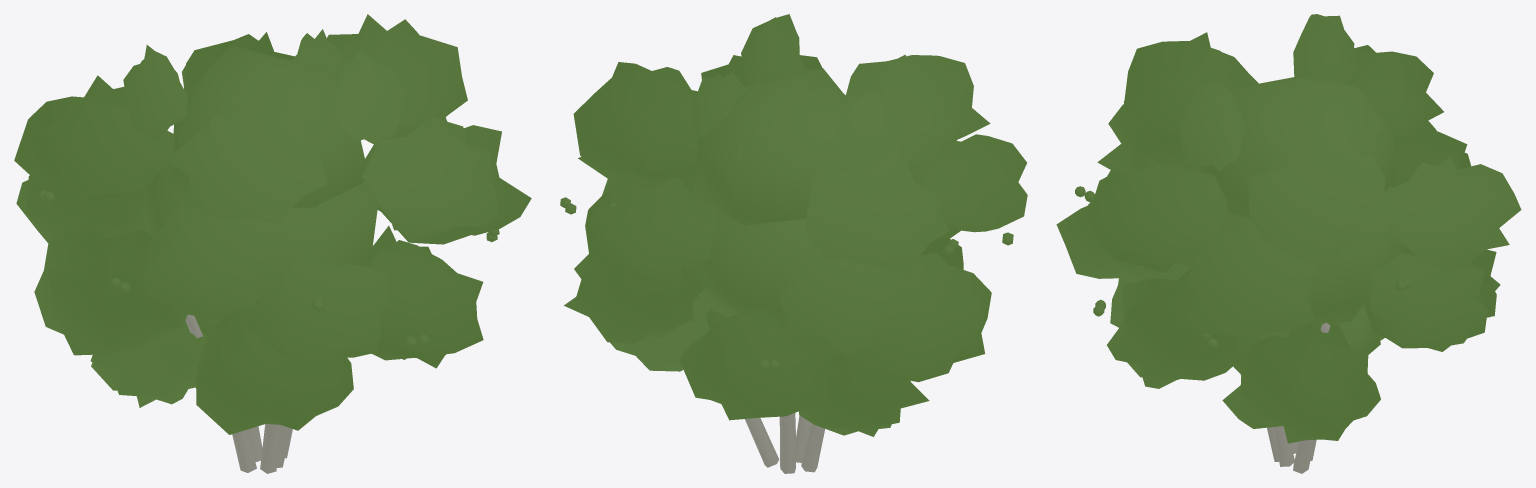
Rendered from Blender_WaxMyrtle_1.glb.
The picture shows the model from 3 angles, left to right: view 1: azimuth 30°, elevation 25°; view 2: azimuth 150°, elevation 25°; view 3: azimuth 270°, elevation 25°; orthographic projection. The views are drawn at different scales.
Parts seen in each view (by area): view 1: Blender_WaxMyrtle_1; view 2: Blender_WaxMyrtle_1; view 3: Blender_WaxMyrtle_1.
Boxes of the visible parts, <box> form: Blender_WaxMyrtle_1: <box>14,14,531,473</box>; Blender_WaxMyrtle_1: <box>560,14,1027,473</box>; Blender_WaxMyrtle_1: <box>1056,14,1521,473</box>.
Size of the model in its own units: 4.47 by 4.24 by 4.42.
